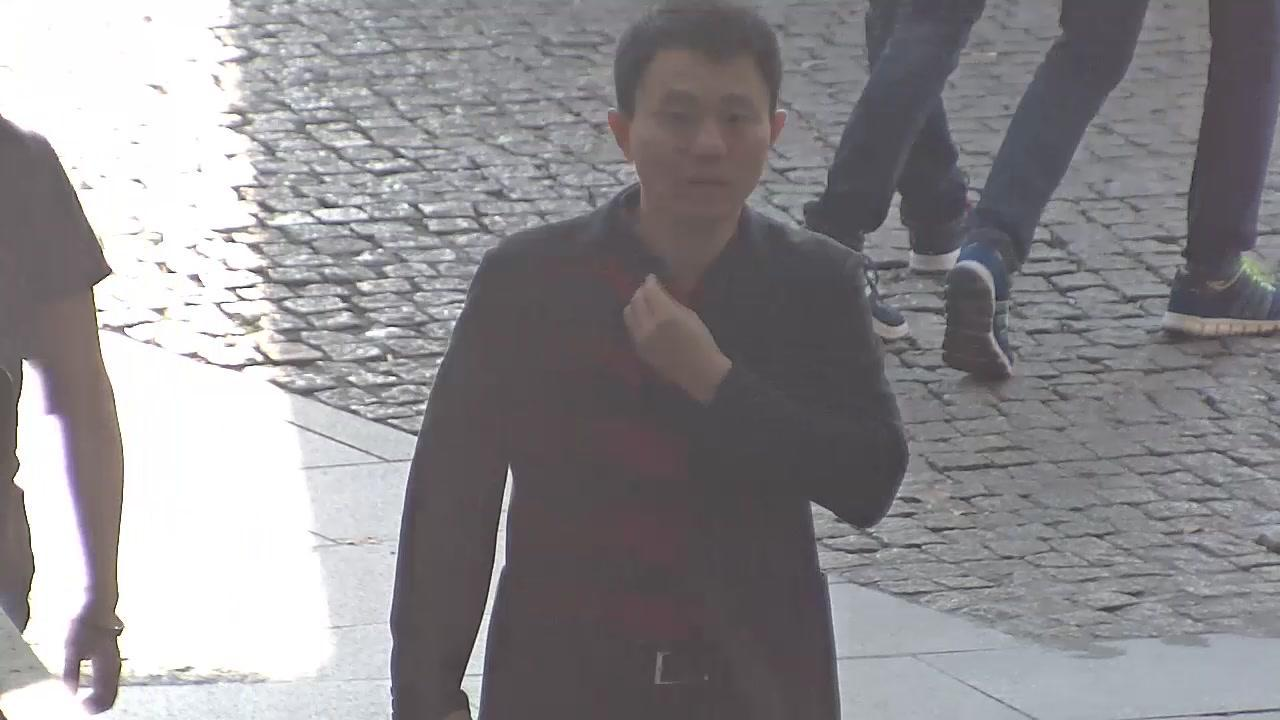person: (388, 0, 910, 720), (944, 0, 1280, 381), (0, 118, 126, 713), (799, 0, 973, 343)
